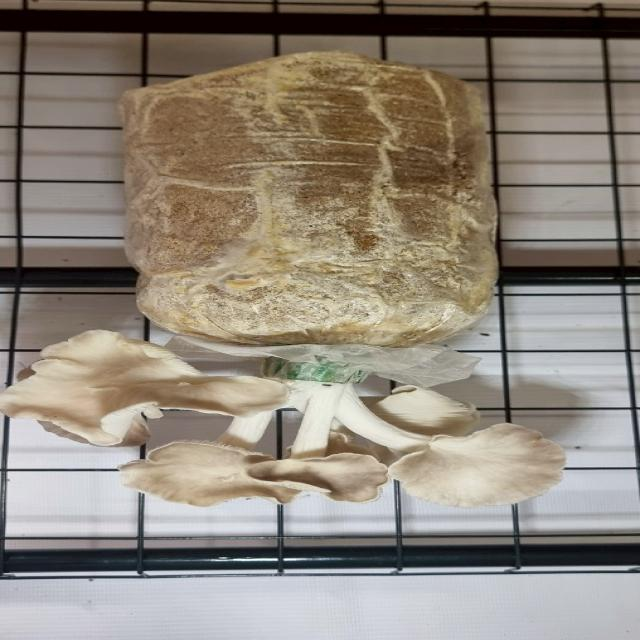normal: (311, 371, 571, 511), (4, 323, 288, 440), (102, 428, 387, 516)
